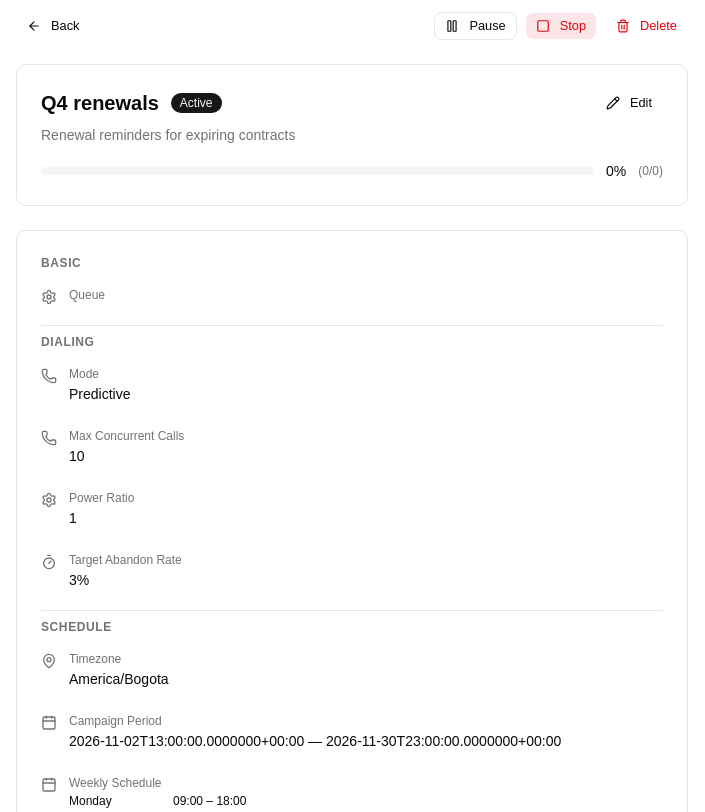
Test case: CampaignDetailPage edit form › CampaignDetailPage_ShouldSendTheChosenQueueByName_WhenACampaignWithoutAQueueIsEdited
Expected: the heading "Q4 renewals" is shown, [41,89,159,117]
Click the button "Edit" at (629, 103), box [595,89,663,117]
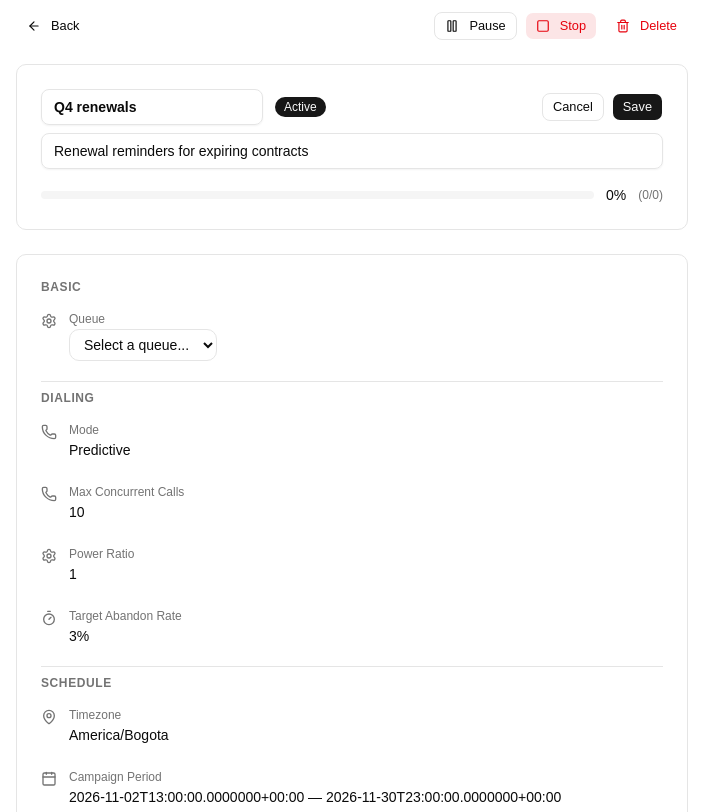
Expected: the field showing "Q4 renewals" next to "Active" is shown, [41,89,263,125]
Expected: the dropdown with test id "campaign-edit-queue" shows "Select a queue..."
Select "sales" in the dropdown with test id "campaign-edit-queue" at (143, 345), box [69,329,217,361]
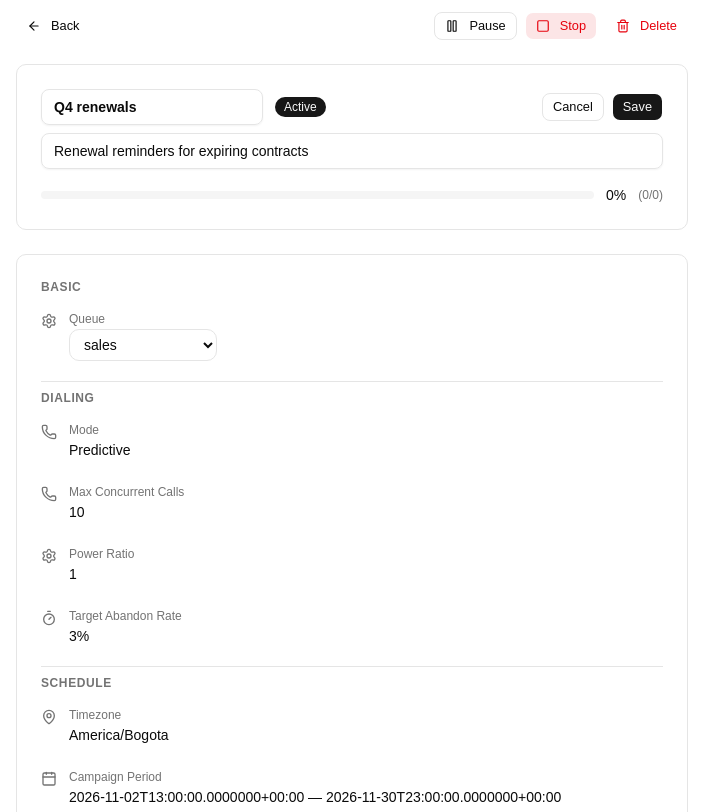
Click the button "Save" at (637, 107), box [612,93,663,121]
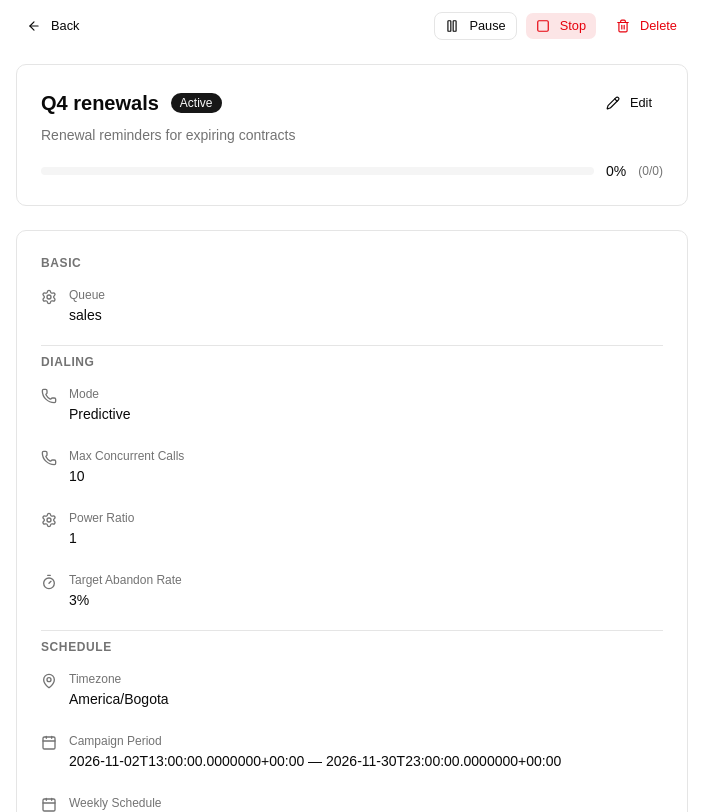
Expected: the text "sales" is shown, [69,305,105,325]
Expected: the dropdown with test id "campaign-edit-queue" is gone
